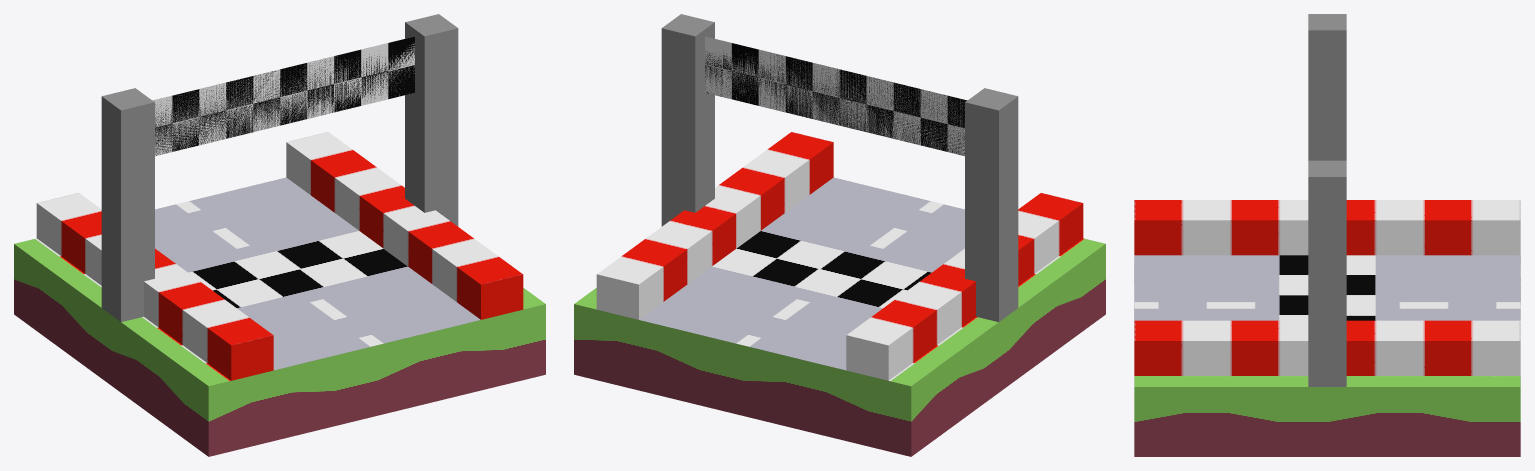
The model's file is finish.fbx.
3 renders of one model, left to right at view 1: azimuth 30°, elevation 25°; view 2: azimuth 150°, elevation 25°; view 3: azimuth 270°, elevation 25°, orthographic.
Parts seen in each view (by area): view 1: Plane; view 2: Plane; view 3: Plane.
Boxes of the visible parts, x1,y1,x2,y2 form: Plane: (14,14,545,456); Plane: (574,14,1105,456); Plane: (1134,14,1520,456).
Size of the model in its own units: 10 by 10 by 8.
6 materials, 4 textured.
